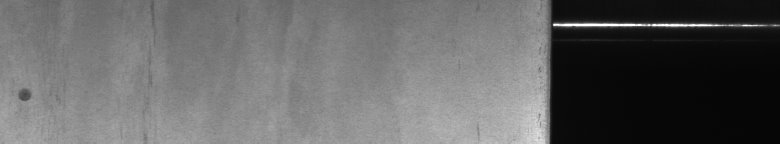fi: (15, 80, 37, 108)
